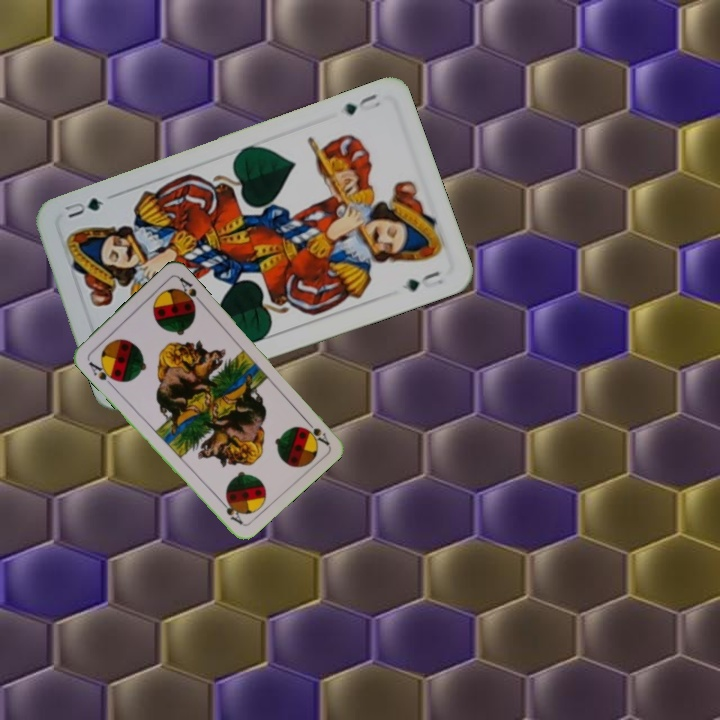GU: (341, 89, 383, 118)
SA: (84, 357, 119, 389), (300, 414, 332, 448)
